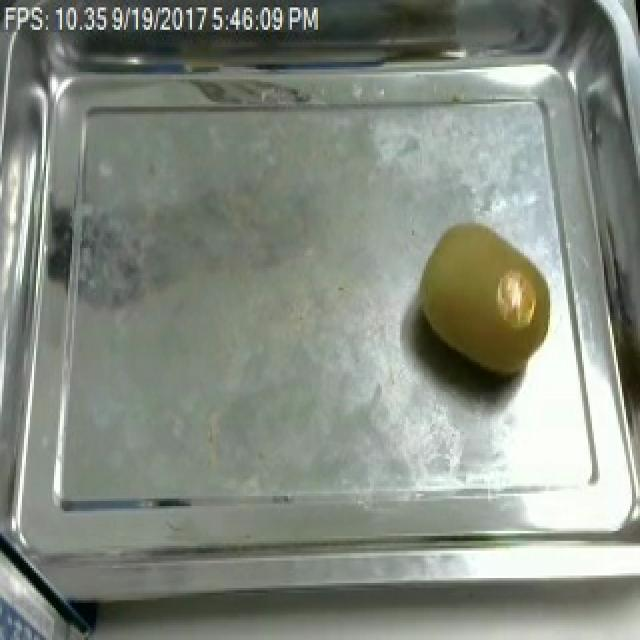Fruit: (408, 211, 560, 389)
